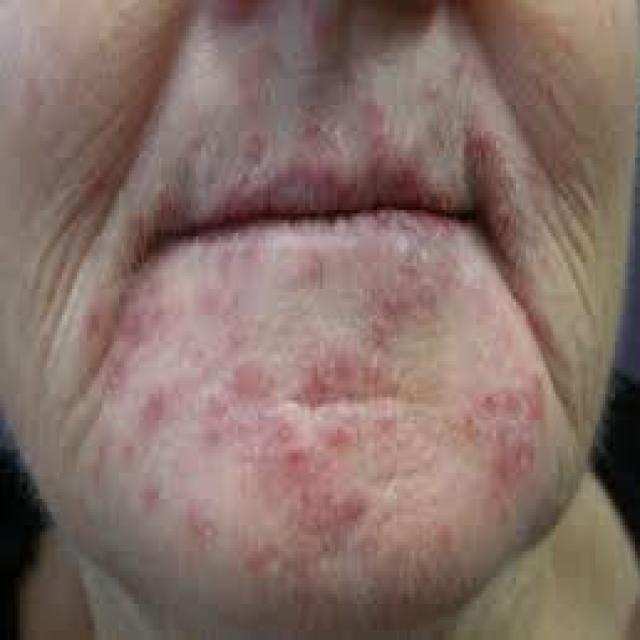Rosacea: (89, 248, 546, 564), (162, 56, 460, 168)
